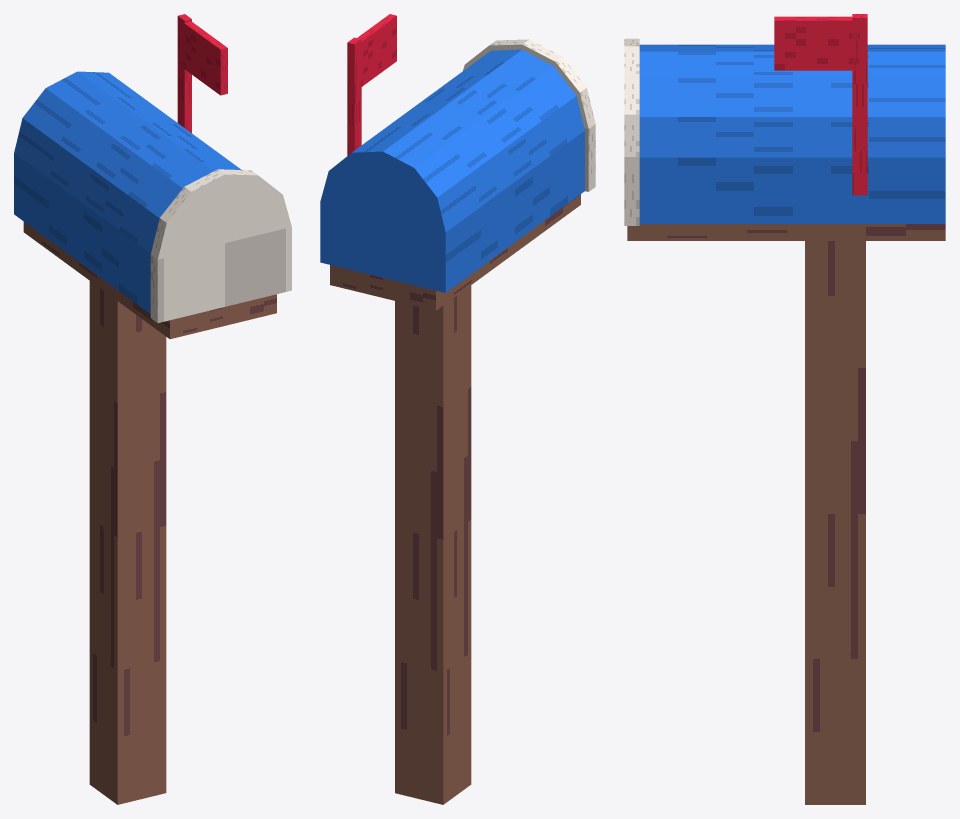
File: Mailbox.fbx
The picture shows the model from 3 angles, left to right: view 1: azimuth 30°, elevation 25°; view 2: azimuth 150°, elevation 25°; view 3: azimuth 270°, elevation 25°; orthographic projection. The views are drawn at different scales.
Visible parts, largest first — view 1: Mailbox post, Mailbox box, Mailbox door.001, Mailbox shelf, Mailbox flag plate, Mailbox flag arm; view 2: Mailbox box, Mailbox post, Mailbox shelf, Mailbox door.001, Mailbox flag plate, Mailbox flag arm; view 3: Mailbox box, Mailbox post, Mailbox shelf, Mailbox flag plate, Mailbox door.001, Mailbox flag arm.
Boxes of the visible parts, box(x1,y1,x2,y2) form: Mailbox post: box(89, 281, 166, 804); Mailbox box: box(14, 71, 241, 313); Mailbox door.001: box(150, 169, 291, 322); Mailbox shelf: box(23, 222, 276, 339); Mailbox flag plate: box(181, 21, 227, 95); Mailbox flag arm: box(177, 14, 191, 132); Mailbox box: box(320, 49, 584, 292); Mailbox post: box(395, 285, 471, 804); Mailbox shelf: box(330, 194, 580, 310); Mailbox door.001: box(463, 39, 595, 191); Mailbox flag plate: box(357, 14, 396, 86); Mailbox flag arm: box(347, 37, 361, 155); Mailbox box: box(639, 44, 945, 223); Mailbox post: box(805, 241, 865, 804); Mailbox shelf: box(627, 224, 945, 240); Mailbox flag plate: box(774, 16, 859, 70); Mailbox door.001: box(624, 38, 639, 225); Mailbox flag arm: box(852, 14, 867, 195).
Size of the model in its own units: 0.2853 by 1.46 by 0.525.
4 materials, 4 textured.
